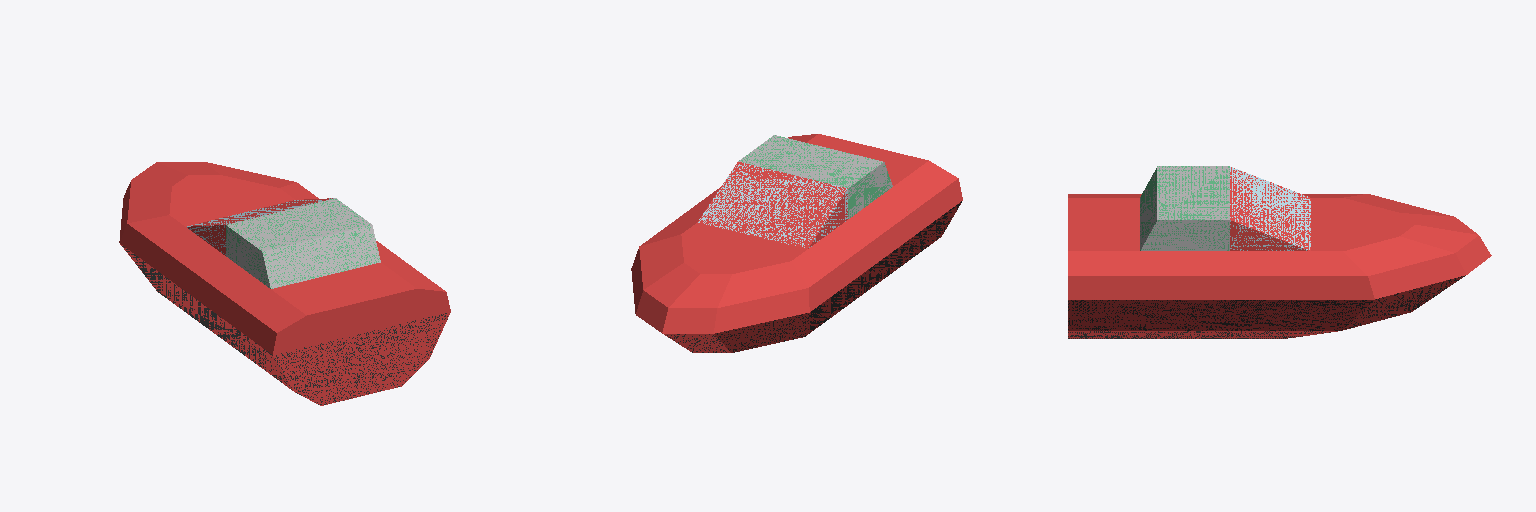
File: boat_018.obj
3 views of the same model, side by side, from view 1: azimuth 30°, elevation 25°; view 2: azimuth 150°, elevation 25°; view 3: azimuth 270°, elevation 25° (orthographic).
Visible parts, largest first — view 1: boat_018; view 2: boat_018; view 3: boat_018.
Boxes of the visible parts, <box> form: boat_018: <box>119,162,450,405</box>; boat_018: <box>631,134,962,352</box>; boat_018: <box>1068,166,1491,338</box>.
Size of the model in its own units: 1.78 by 1.2 by 3.67.